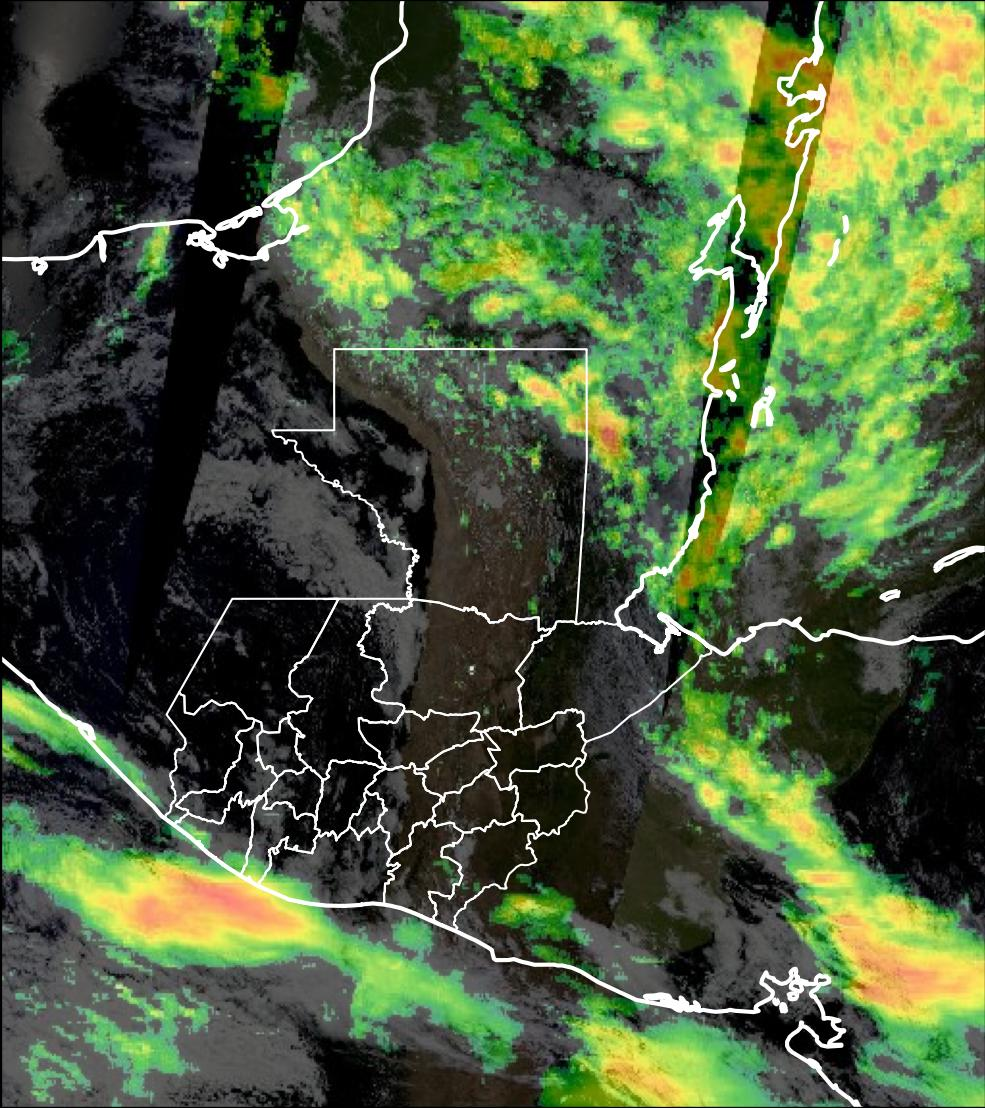precipitacion: (102, 857, 323, 967), (826, 912, 985, 1032)
